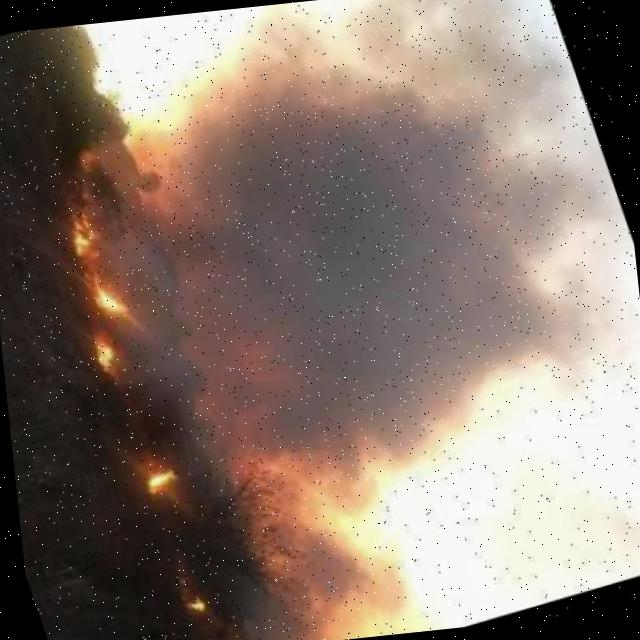fire: (97, 270, 139, 322), (72, 211, 112, 257), (148, 465, 185, 500), (97, 338, 126, 375)
